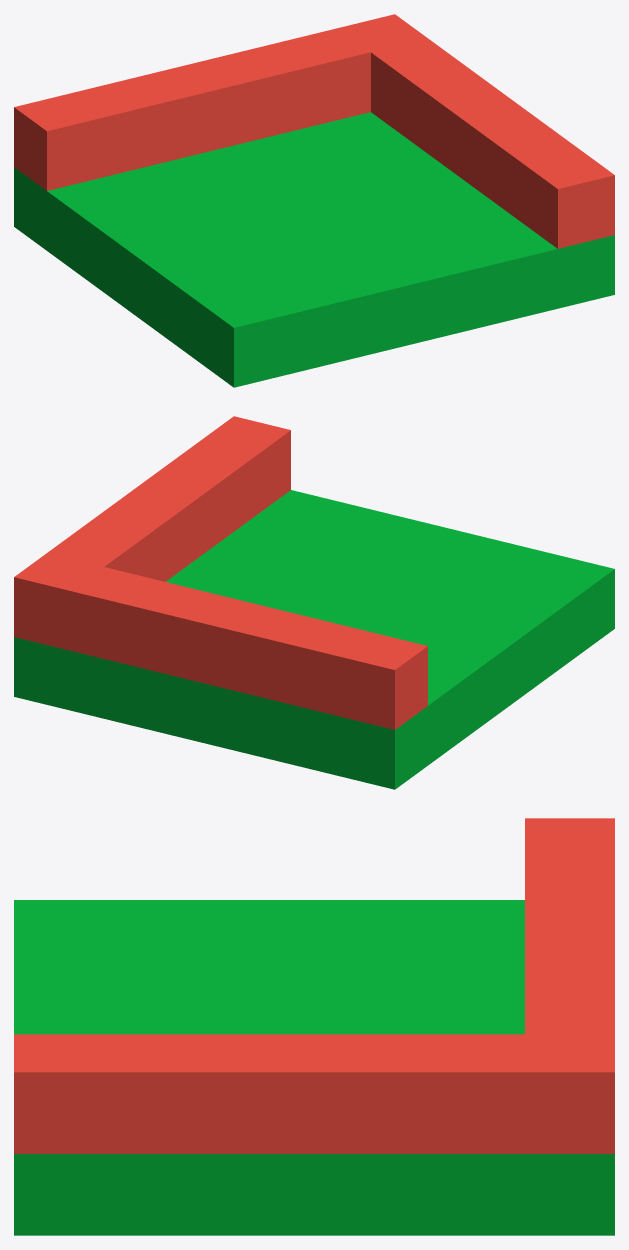
File: corner_wide.fbx
The picture shows the model from 3 angles, top to bottom: view 1: azimuth 30°, elevation 25°; view 2: azimuth 150°, elevation 25°; view 3: azimuth 270°, elevation 25°; orthographic projection. The views are drawn at different scales.
Parts seen in each view (by area): view 1: green_straight_single_edge.001, side, side.001; view 2: green_straight_single_edge.001, side, side.001; view 3: green_straight_single_edge.001, side.001, side.
Part boxes in pixels (<box>): green_straight_single_edge.001: <box>14,112,614,387</box>; side: <box>14,14,427,190</box>; side.001: <box>371,38,614,248</box>; green_straight_single_edge.001: <box>14,490,614,789</box>; side: <box>14,553,427,729</box>; side.001: <box>14,416,290,629</box>; green_straight_single_edge.001: <box>14,900,614,1235</box>; side.001: <box>14,1034,614,1153</box>; side: <box>525,818,614,1153</box>.
Size of the model in its own units: 200 by 60 by 200.
